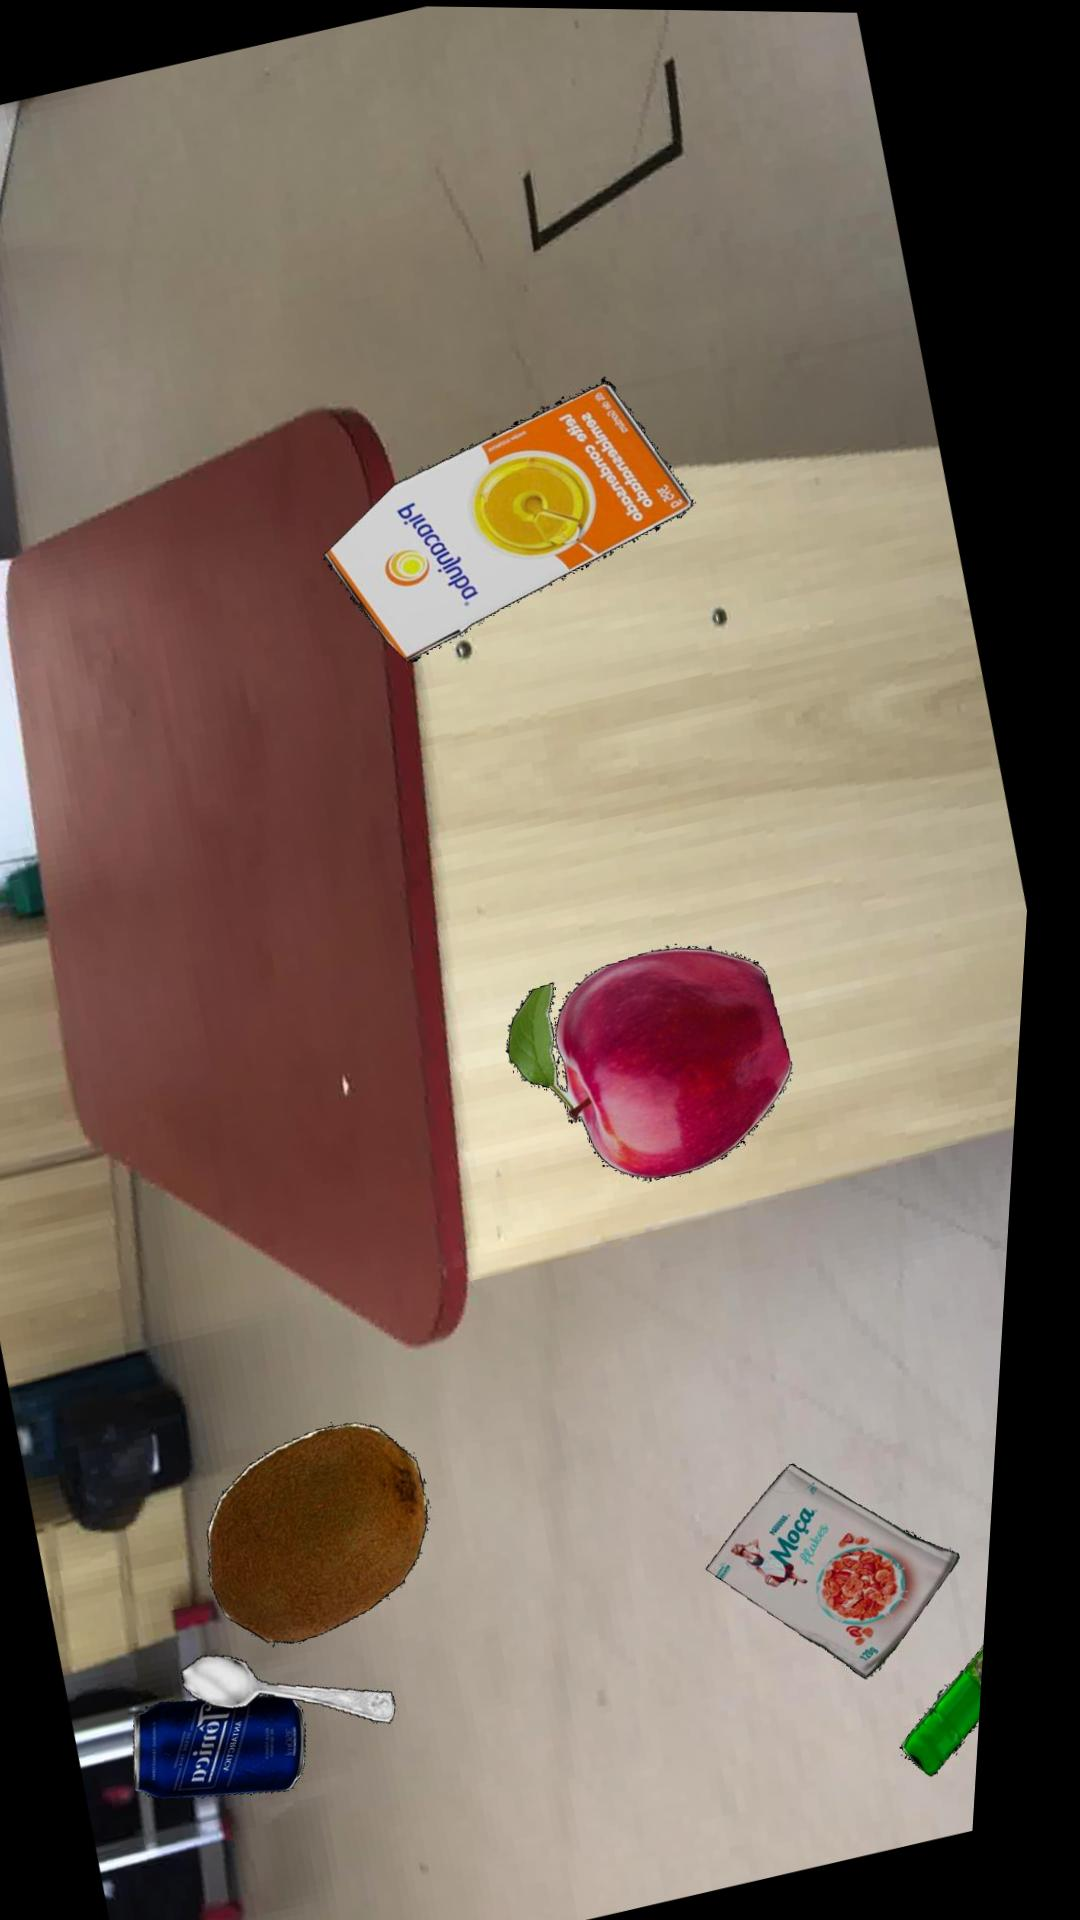apple: (520, 944, 806, 1179)
cleaner: (923, 1643, 1004, 1774)
corn flakes: (727, 1461, 980, 1676)
kiwi: (227, 1422, 448, 1643)
spoon: (203, 1654, 418, 1722)
tonic: (156, 1695, 328, 1800)
